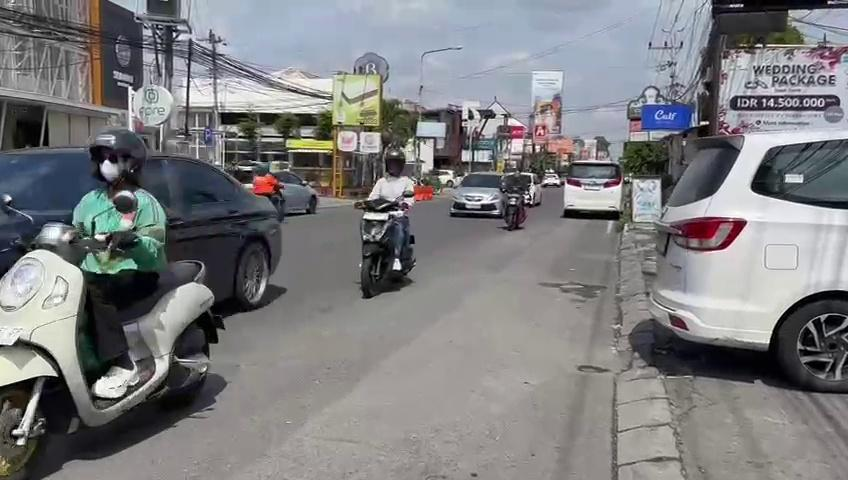helm: (87, 128, 148, 187), (383, 149, 407, 175)
riding: (0, 128, 229, 480), (352, 149, 417, 298)
